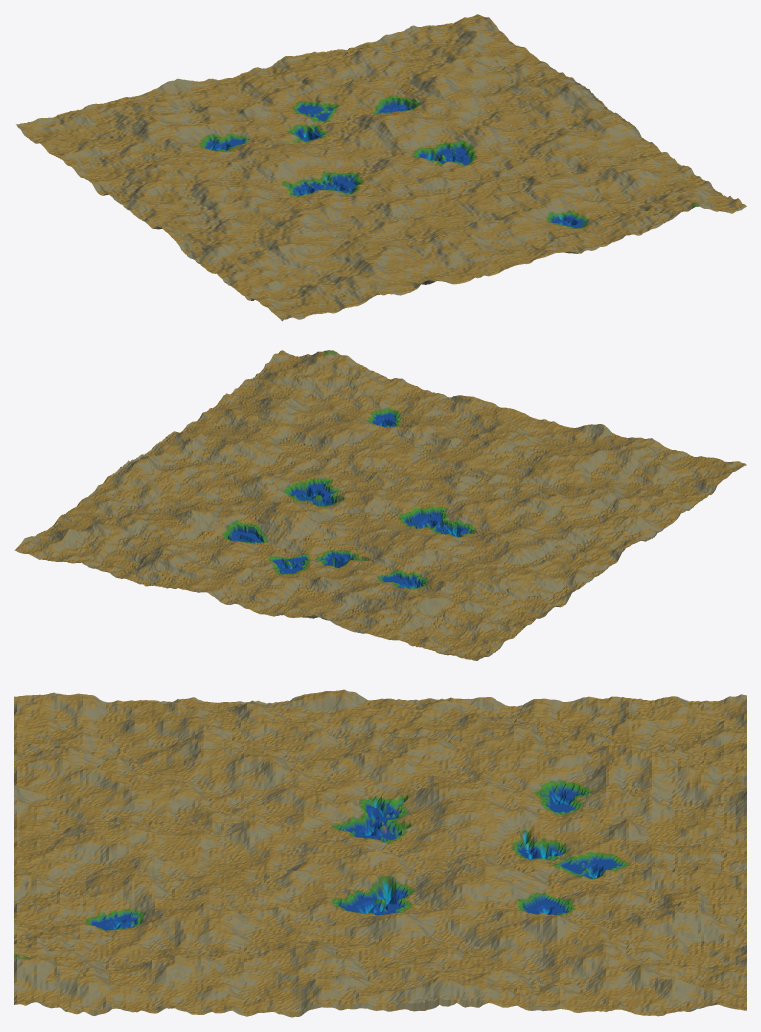
File: terrain_FLAME.obj
3 renders of one model, top to bottom at view 1: azimuth 30°, elevation 25°; view 2: azimuth 150°, elevation 25°; view 3: azimuth 270°, elevation 25°, orthographic. The views are drawn at different scales.
Visible parts, largest first — view 1: FLAME; view 2: FLAME; view 3: FLAME.
Boxes of the visible parts, x1,y1,x2,y2 form: FLAME: (16,14,746,321); FLAME: (14,350,746,660); FLAME: (14,689,746,1017).
Size of the model in its own units: 255 by 23.74 by 255.
Materials: 1 (1 with a texture image).
